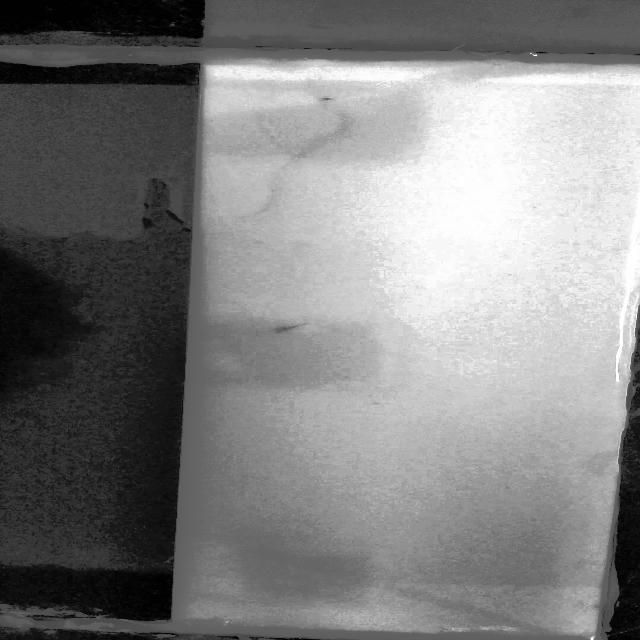shrimp: (270, 320, 304, 339), (318, 93, 340, 103)
